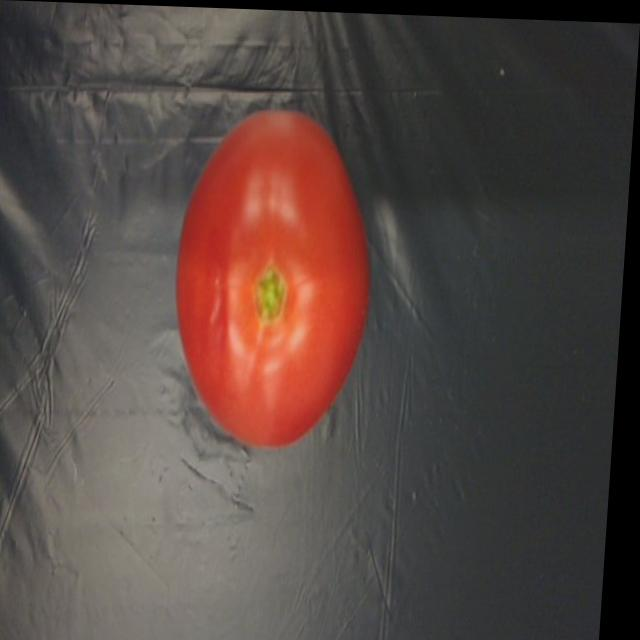kirmizi: (170, 99, 388, 446)
